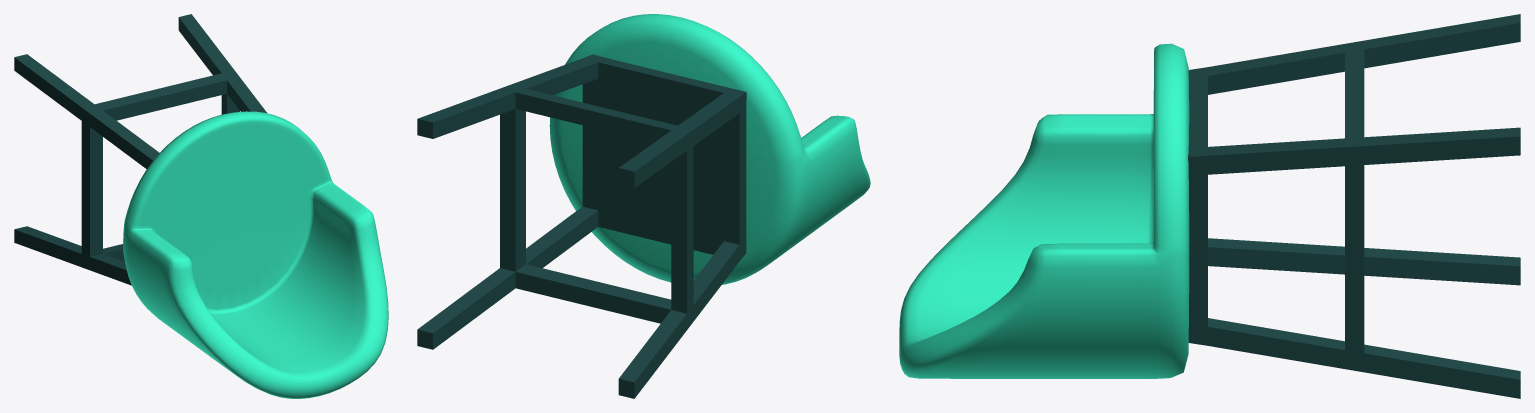
Rendered from KitchenChair01.fbx.
3 views of the same model, side by side, from view 1: azimuth 30°, elevation 25°; view 2: azimuth 150°, elevation 25°; view 3: azimuth 270°, elevation 25° (orthographic). The views are drawn at different scales.
Visible parts, largest first — view 1: KitchenChairSeat, KitchenChairLegs; view 2: KitchenChairLegs, KitchenChairSeat; view 3: KitchenChairSeat, KitchenChairLegs.
Boxes of the visible parts, x1=… form: KitchenChairSeat: x1=123, y1=111, x2=388, y2=398; KitchenChairLegs: x1=14, y1=14, x2=266, y2=285; KitchenChairLegs: x1=417, y1=54, x2=746, y2=398; KitchenChairSeat: x1=549, y1=14, x2=870, y2=284; KitchenChairSeat: x1=899, y1=43, x2=1189, y2=378; KitchenChairLegs: x1=1188, y1=14, x2=1520, y2=398.
Bounding box in the file's own units: 33302 × 33205 × 61504.
1 material, 1 textured.
